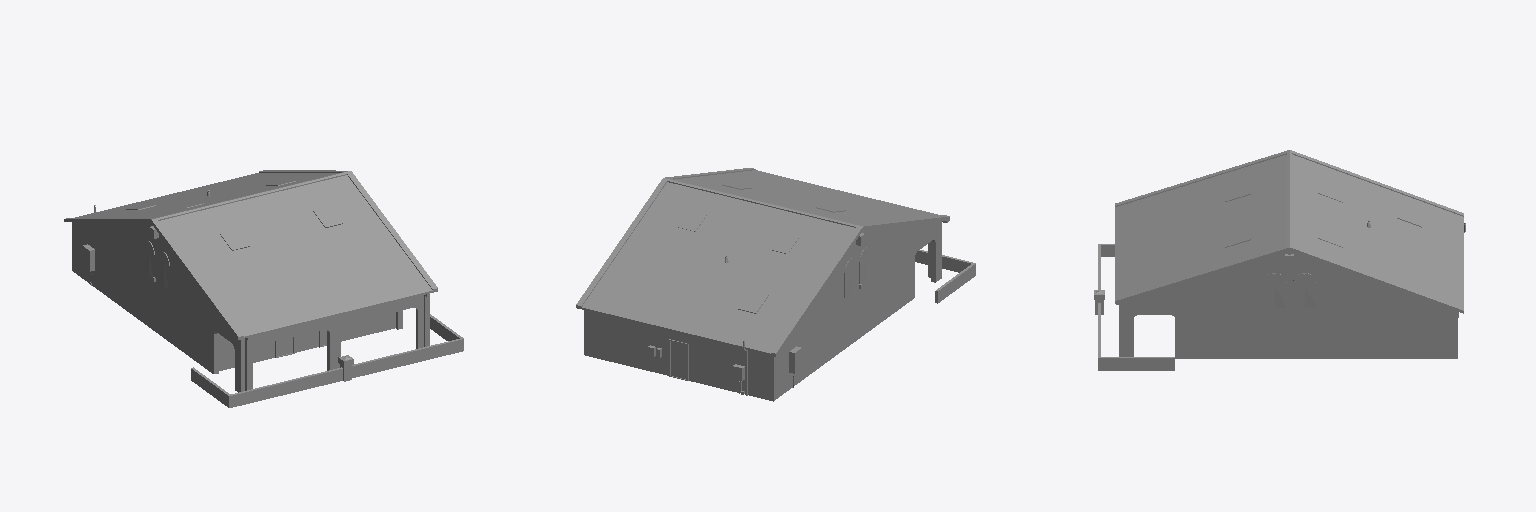
The model's file is building1.obj.
3 renders of one model, left to right at view 1: azimuth 30°, elevation 25°; view 2: azimuth 150°, elevation 25°; view 3: azimuth 270°, elevation 25°, orthographic.
Visible parts, largest first — view 1: building_m19; view 2: building_m19; view 3: building_m19.
Part boxes in pixels (x1,y1,x2,y2): building_m19: (64, 170, 463, 407); building_m19: (576, 168, 975, 401); building_m19: (1094, 150, 1465, 370).
Size of the model in its own units: 158 by 73.52 by 216.